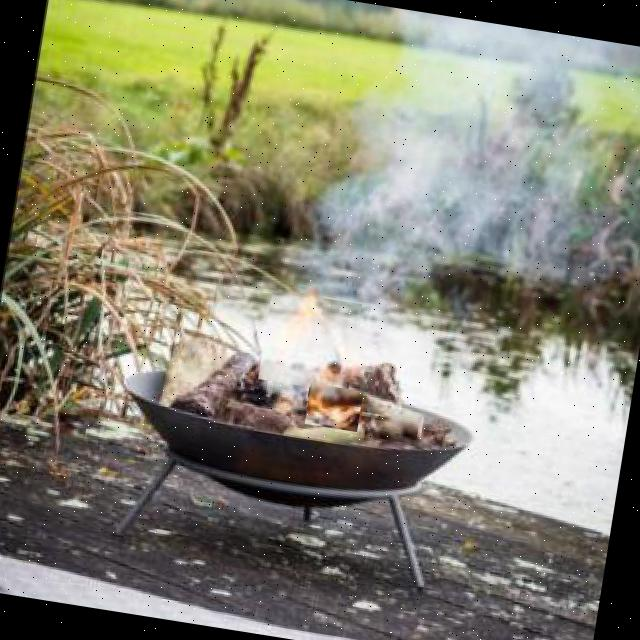fire: (258, 290, 362, 393), (304, 383, 364, 432)
